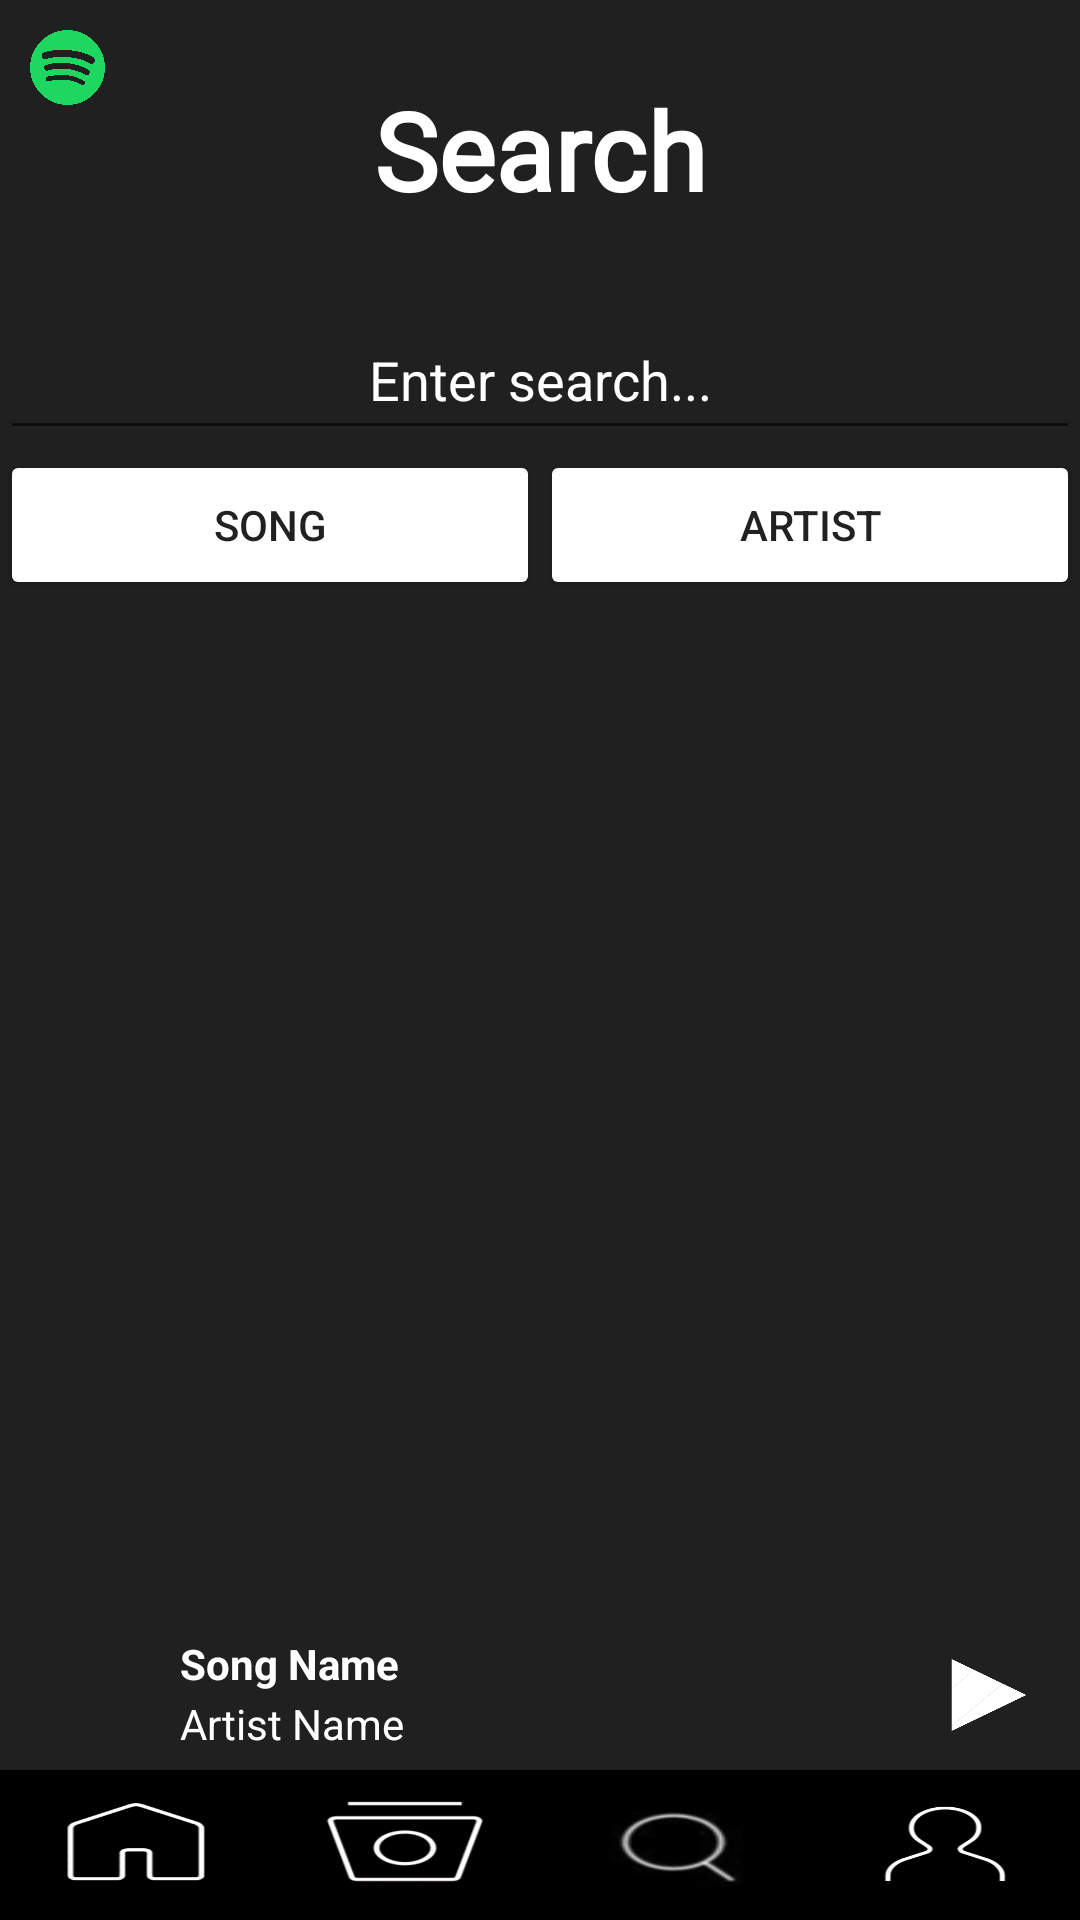

Icon click points for this 1080x1920 phone screenshot, format (x,y):
home: (136,1842)
search: (678,1847)
